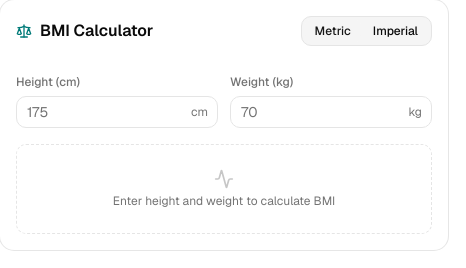
Test: BmiCalculator component › allows switching units between metric and imperial
Expected: the text "cm" is shown, [191,104,208,120]
Expected: the text "kg" is shown, [408,104,422,120]
Click the button "Imperial". click: point(395, 31)
box: [362,19,429,43]
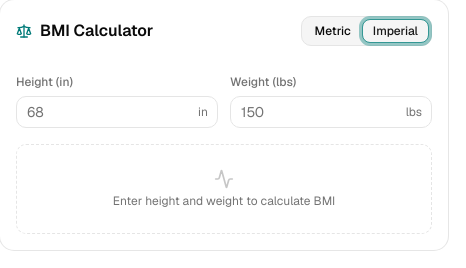
Expected: the text "in" is shown, [198,104,208,120]
Now the text "lbs" is shown, box [406,104,422,120]
